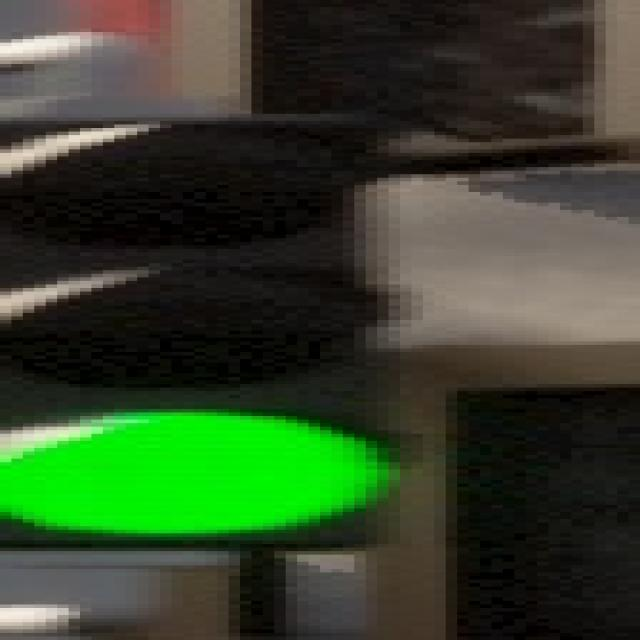green_light: (2, 82, 465, 555)
